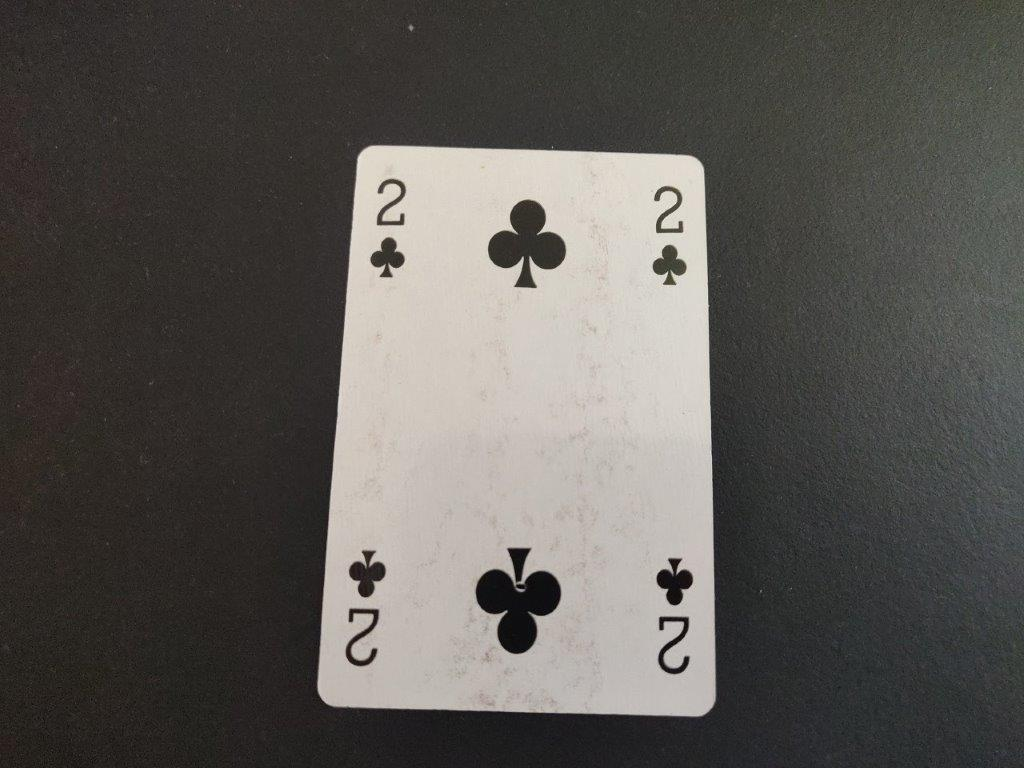2C: (645, 179, 693, 300), (368, 172, 413, 286)
